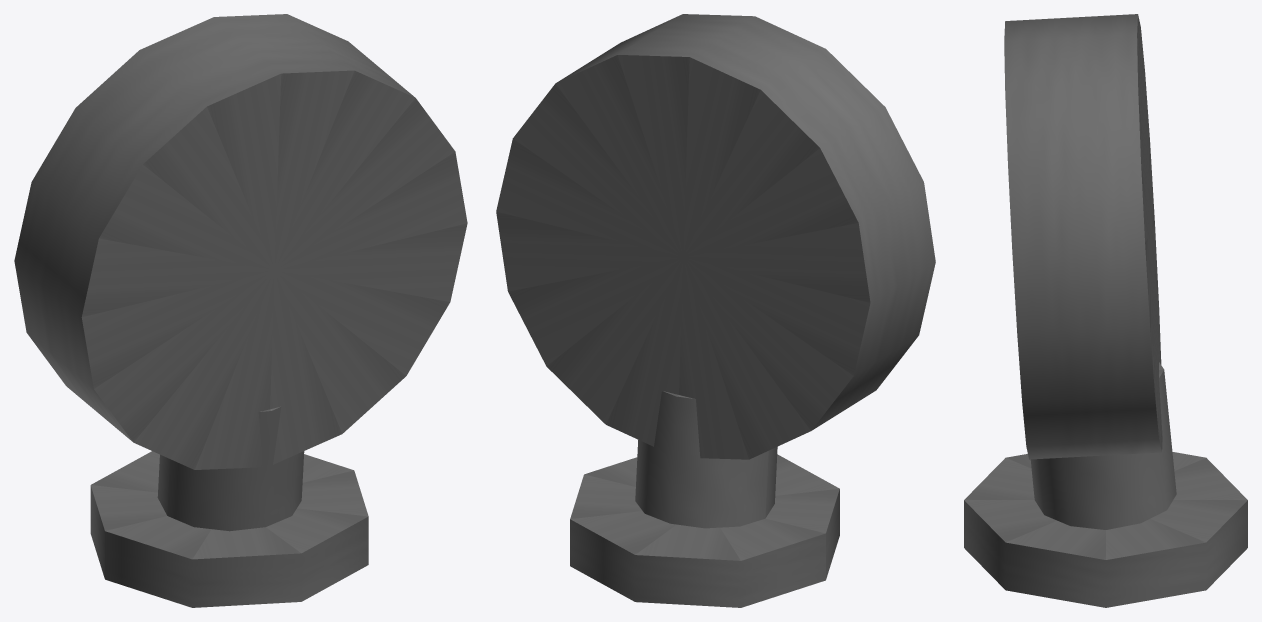
File: mastarmcurve_6x2_c7_down.obj
The picture shows the model from 3 angles, left to right: view 1: azimuth 30°, elevation 25°; view 2: azimuth 150°, elevation 25°; view 3: azimuth 270°, elevation 25°; orthographic projection. The views are drawn at different scales.
Parts seen in each view (by area): view 1: mastarm_6x2_c7_down; view 2: mastarm_6x2_c7_down; view 3: mastarm_6x2_c7_down.
Boxes of the visible parts, box(x1,y1,x2,y2) form: mastarm_6x2_c7_down: box(14, 14, 467, 607); mastarm_6x2_c7_down: box(496, 14, 935, 607); mastarm_6x2_c7_down: box(964, 14, 1247, 607).
Bounding box in the file's own units: 0.6191 × 0.7982 × 0.4.
